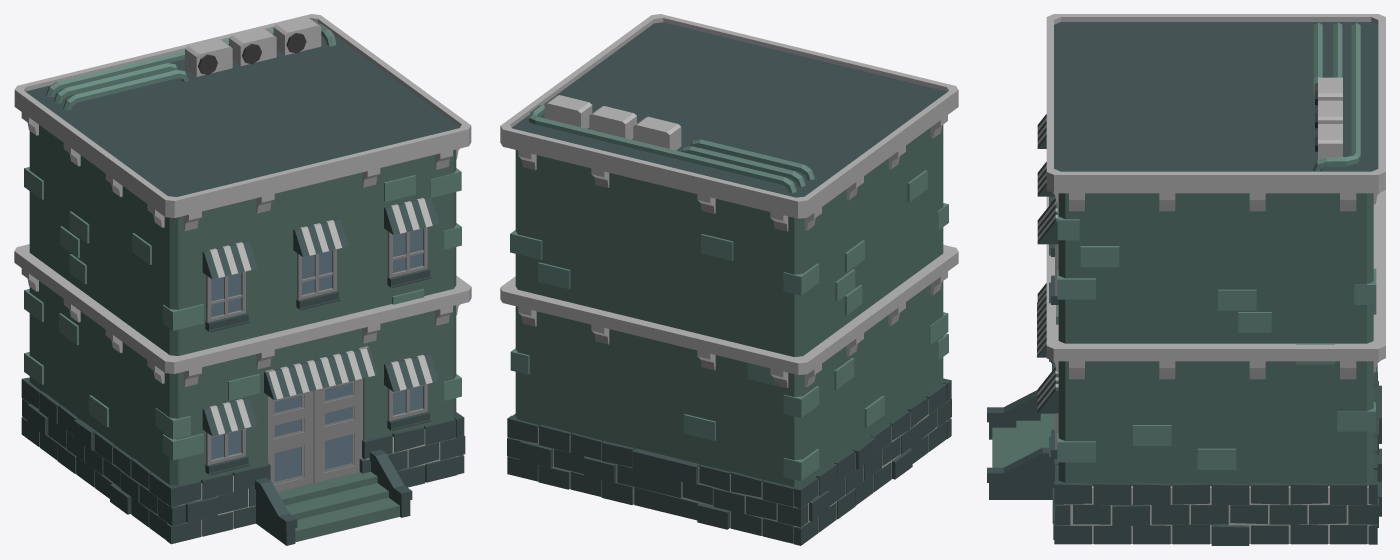
Rendered from 2Story_Double_Mat.glb.
The picture shows the model from 3 angles, left to right: view 1: azimuth 30°, elevation 25°; view 2: azimuth 150°, elevation 25°; view 3: azimuth 270°, elevation 25°; orthographic projection. The views are drawn at different scales.
Size of the model in its own units: 2.42 by 2.75 by 2.53.
